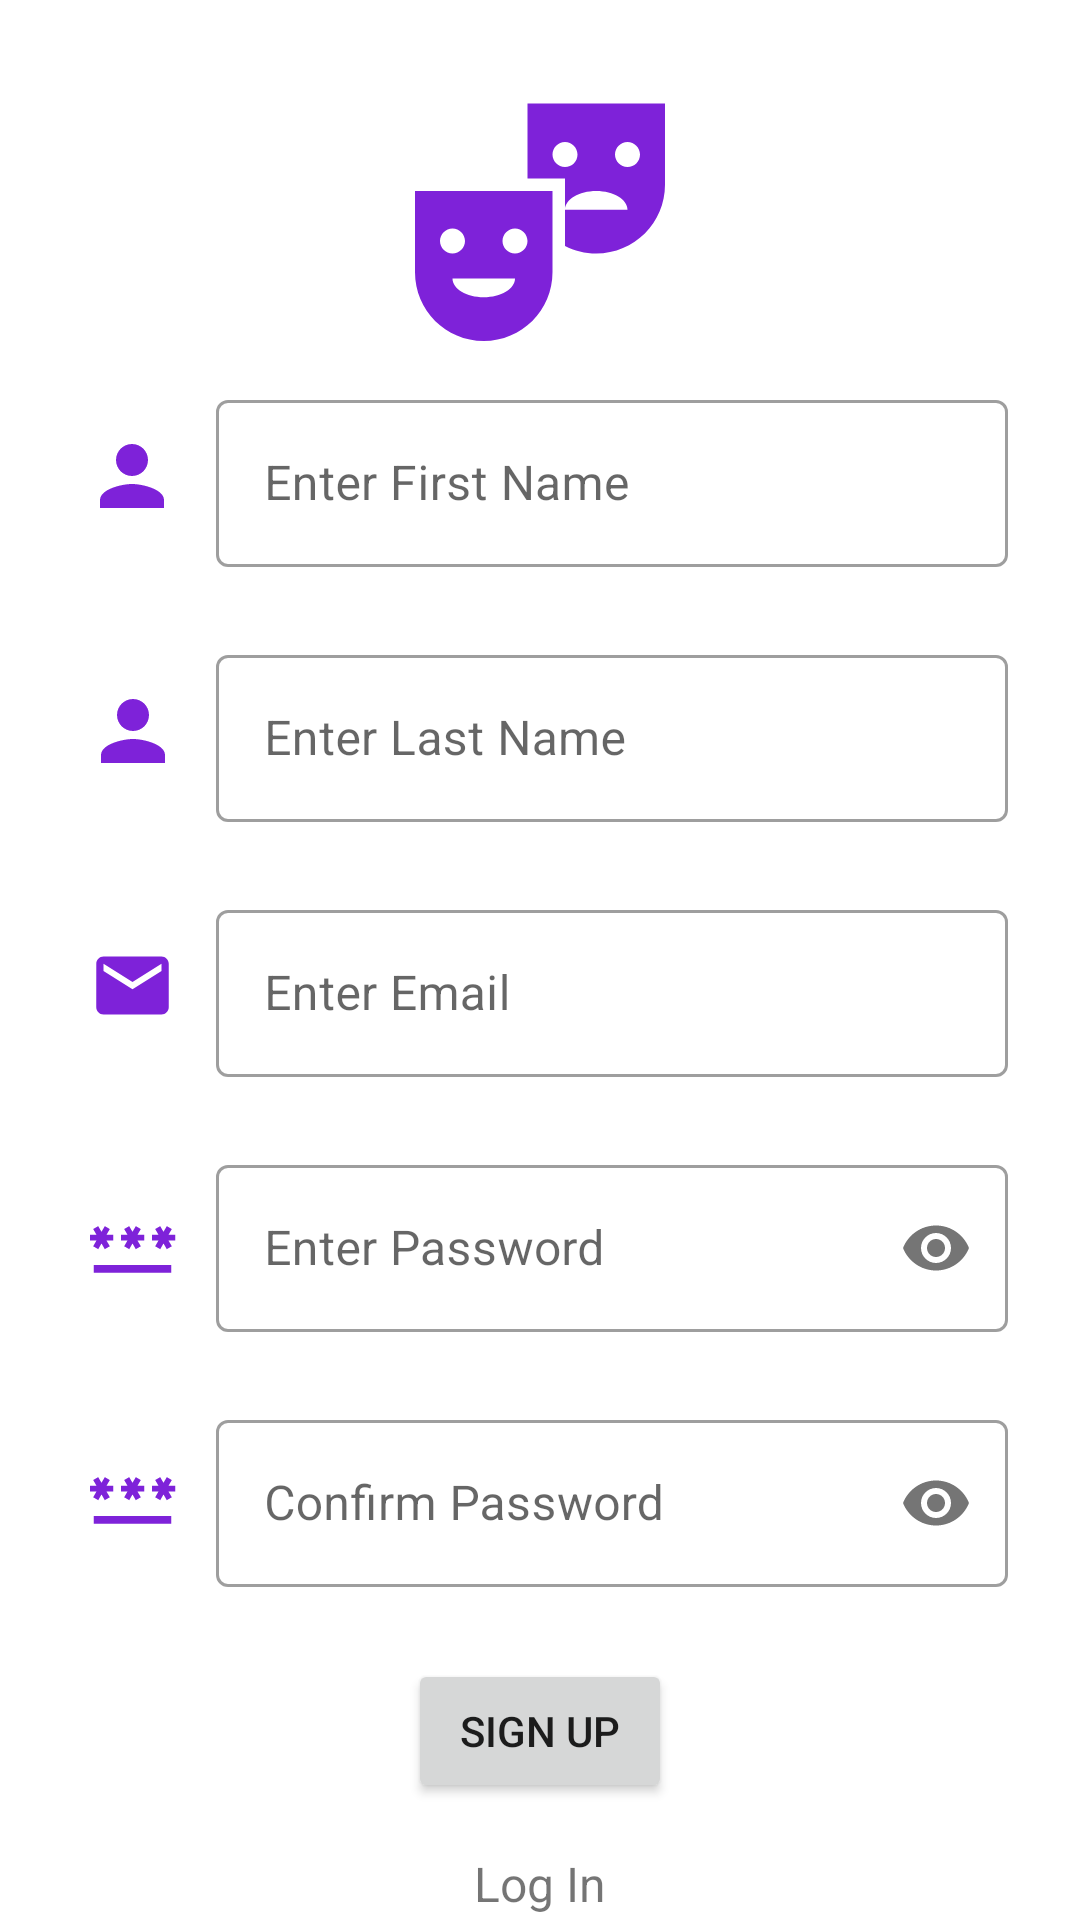

Named icons in this screenshot (1080×1920) and their centers, (x=x, y=y):
person: (x=132, y=476), (x=133, y=731)
theater comedy: (x=540, y=222)
